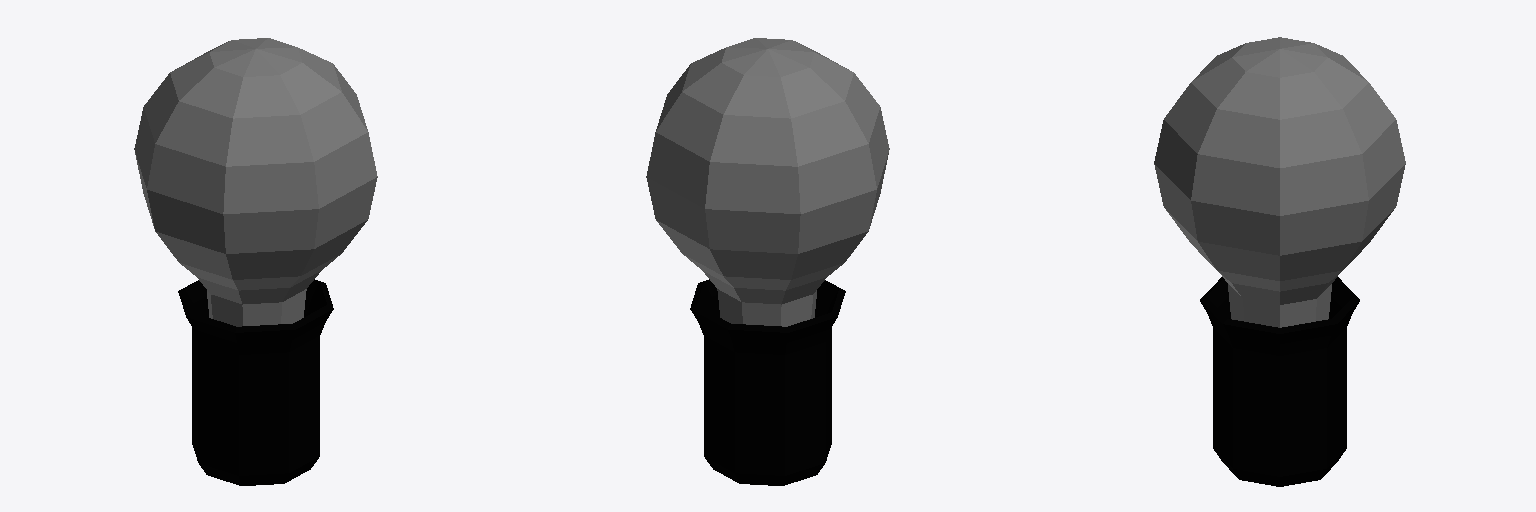
File: lights.obj
3 views of the same model, side by side, from view 1: azimuth 30°, elevation 25°; view 2: azimuth 150°, elevation 25°; view 3: azimuth 270°, elevation 25° (orthographic).
Size of the model in its own units: 2 by 3.63 by 2.